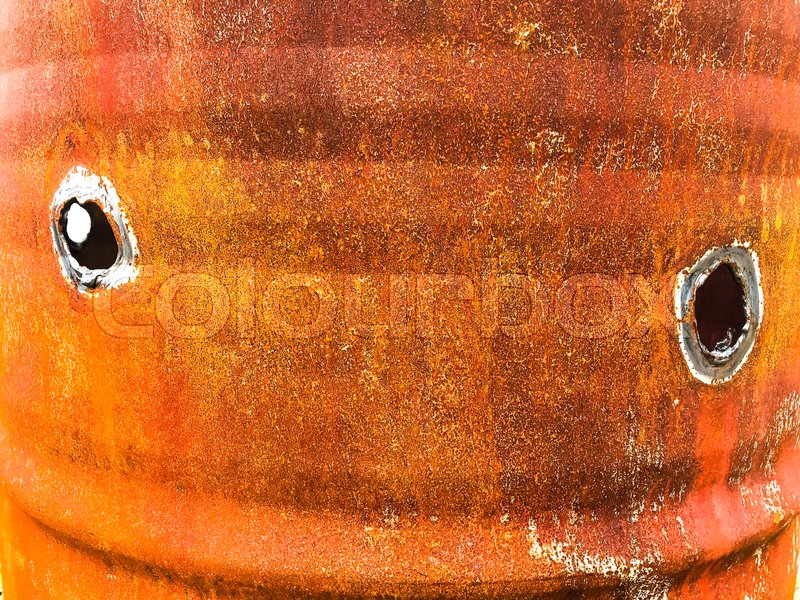rust: (1, 2, 800, 597)
